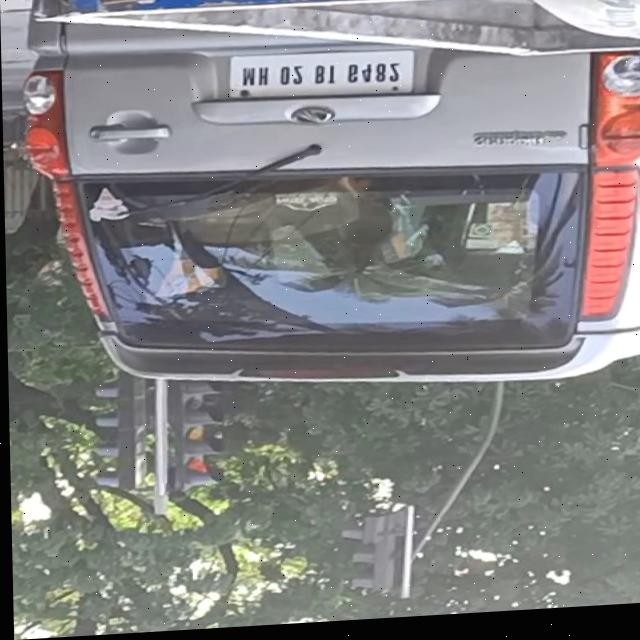plate: (227, 48, 416, 104)
